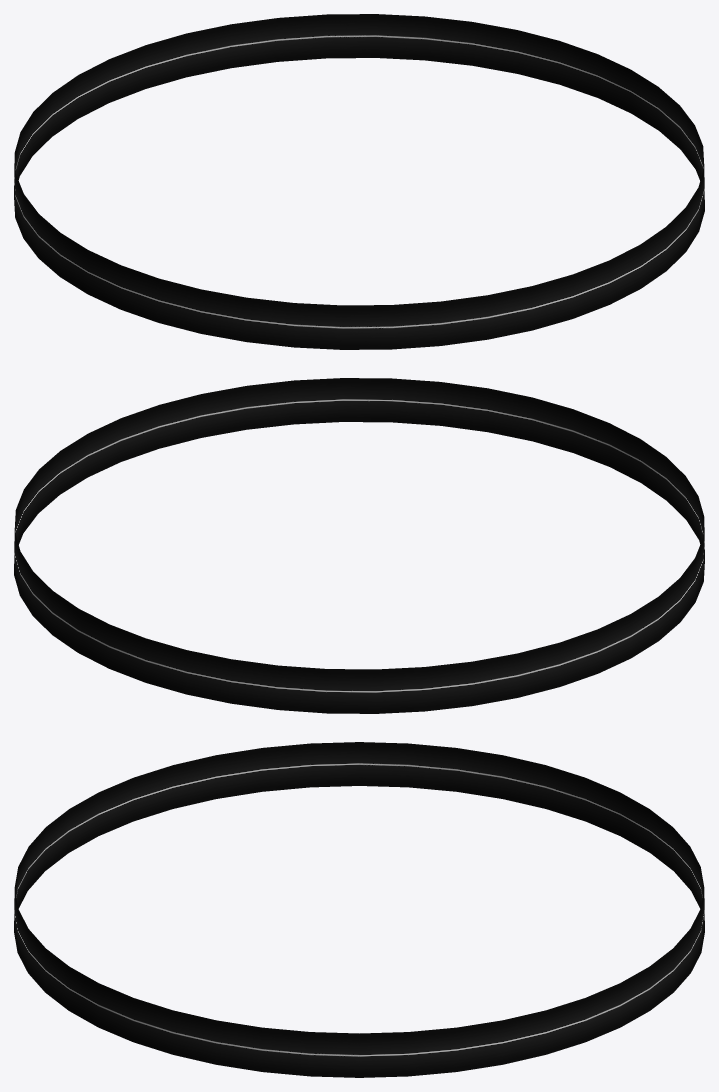
File: Holo_Ring_01.FBX
The picture shows the model from 3 angles, top to bottom: view 1: azimuth 30°, elevation 25°; view 2: azimuth 150°, elevation 25°; view 3: azimuth 270°, elevation 25°; orthographic projection.
Parts seen in each view (by area): view 1: Holo_Ring_01; view 2: Holo_Ring_01; view 3: Holo_Ring_01.
Boxes of the visible parts, bbox=[...] form: Holo_Ring_01: bbox=[14, 14, 704, 349]; Holo_Ring_01: bbox=[14, 378, 704, 713]; Holo_Ring_01: bbox=[14, 742, 704, 1077].
Bounding box in the file's own units: 2.75 × 0.1943 × 2.75.
